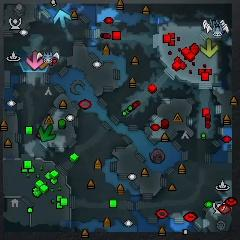x1: (26, 50, 43, 71)
x2: (201, 38, 218, 58)
x3: (54, 10, 71, 28)
x4: (39, 124, 56, 142)
x5: (40, 61, 49, 70)
